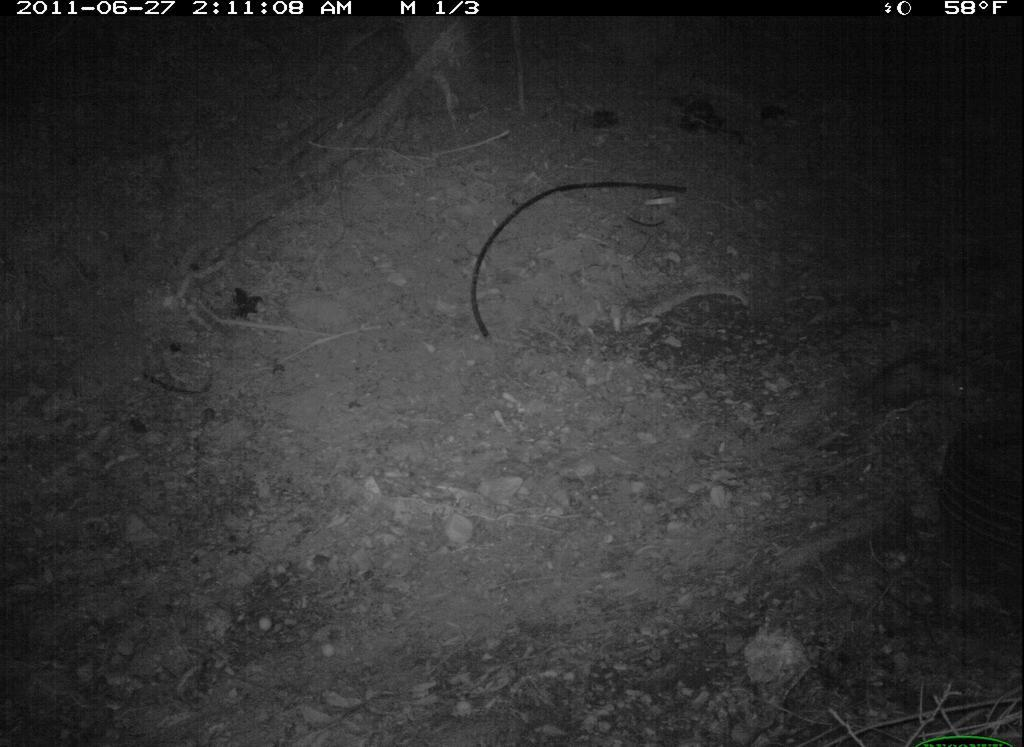opossum: (849, 342, 985, 424)
